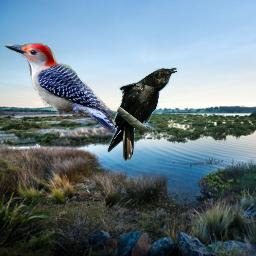Crow: (107, 67, 178, 162)
Woodpecker: (4, 43, 123, 135)
